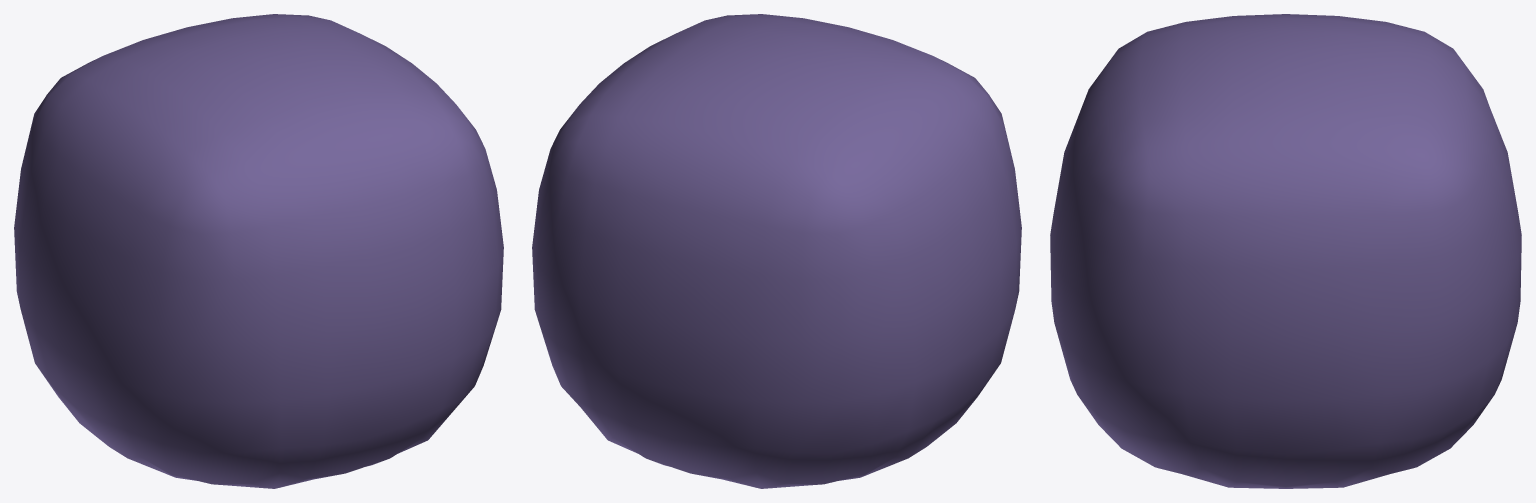
File: Pouf1_6.fbx
3 views of the same model, side by side, from view 1: azimuth 30°, elevation 25°; view 2: azimuth 150°, elevation 25°; view 3: azimuth 270°, elevation 25° (orthographic).
Visible parts, largest first — view 1: pCube2896; view 2: pCube2896; view 3: pCube2896.
Part boxes in pixels (bbox=[...]): pCube2896: bbox=[14, 14, 503, 488]; pCube2896: bbox=[532, 14, 1021, 488]; pCube2896: bbox=[1050, 14, 1521, 488].
Size of the model in its own units: 33.21 by 31.87 by 33.2.
